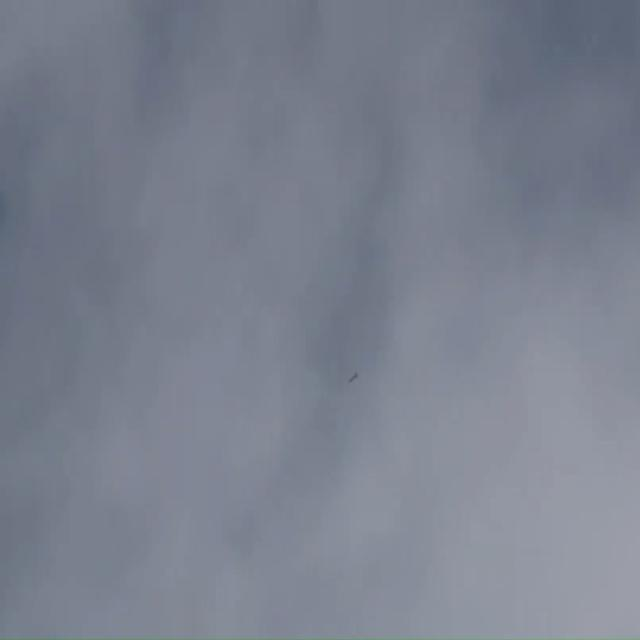Rocket: (349, 372, 359, 384)
